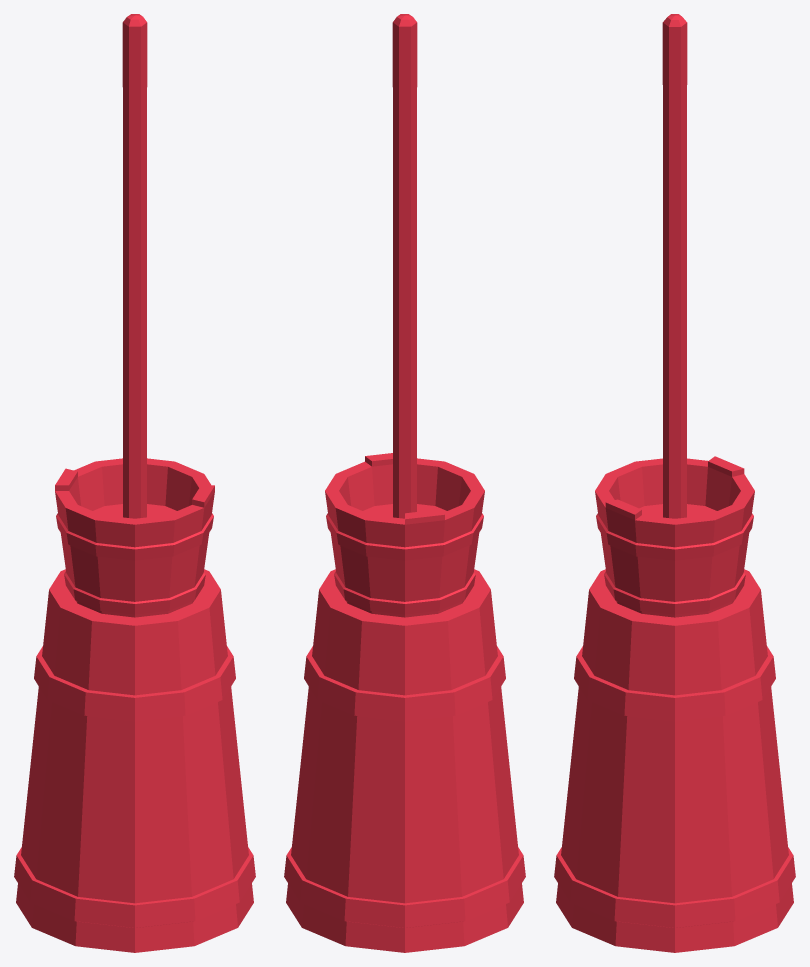
File: SM_Churn.fbx
The picture shows the model from 3 angles, left to right: view 1: azimuth 30°, elevation 25°; view 2: azimuth 150°, elevation 25°; view 3: azimuth 270°, elevation 25°; orthographic projection.
Visible parts, largest first — view 1: churn-base, churn-lid, churn-plunger; view 2: churn-base, churn-lid, churn-plunger; view 3: churn-base, churn-lid, churn-plunger.
Part boxes in pixels (x1=…): churn-base: x1=14, y1=569, x2=255, y2=952; churn-lid: x1=55, y1=458, x2=214, y2=617; churn-plunger: x1=122, y1=14, x2=147, y2=518; churn-base: x1=284, y1=569, x2=525, y2=952; churn-lid: x1=325, y1=453, x2=484, y2=617; churn-plunger: x1=392, y1=14, x2=417, y2=518; churn-base: x1=554, y1=569, x2=795, y2=952; churn-lid: x1=595, y1=456, x2=754, y2=617; churn-plunger: x1=662, y1=14, x2=687, y2=518.
Size of the model in its own units: 0.3325 by 1.35 by 0.3325.
